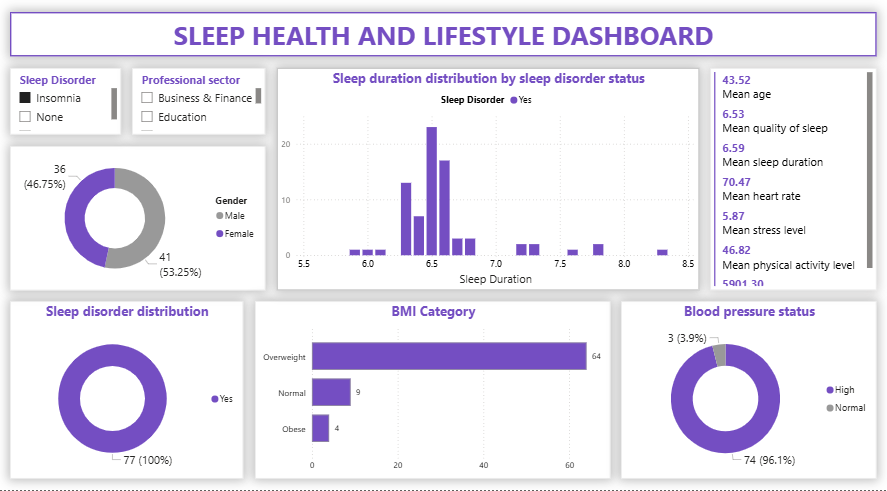

This screenshot's page, from the dashboard's own definition file:
{"tool":"powerbi","page":{"name":"Page 1","canvas":[1280,720],"ordinal":0},"visuals":[{"type":"textbox","box":[16,32,1248,64],"z":0},{"type":"donutChart","title":"Sleep disorder distribution","fields":{"Y":["CountNonNull(sleep_dataset_cleaned.Column1)"],"Category":["sleep_dataset_cleaned.Sleep_Disorder_Flag"]},"box":[16,448,336,256],"z":1000},{"type":"donutChart","title":"Gender distribution","fields":{"Category":["sleep_dataset_cleaned.Gender"],"Y":["CountNonNull(sleep_dataset_cleaned.Column1)"]},"box":[16,224,368,208],"z":2000},{"type":"slicer","fields":{"Values":["sleep_dataset_cleaned.Sleep Disorder"]},"box":[16,112,160,96],"z":3000},{"type":"slicer","fields":{"Values":["sleep_dataset_cleaned.Occupation_Group"]},"box":[192,112,192,96],"z":4000},{"type":"barChart","title":"BMI Category","fields":{"Category":["sleep_dataset_cleaned.BMI Category"],"Y":["CountNonNull(sleep_dataset_cleaned.Column1)"]},"box":[368,448,512,256],"z":5000},{"type":"donutChart","title":"Blood pressure status","fields":{"Y":["CountNonNull(sleep_dataset_cleaned.Column1)"],"Category":["sleep_dataset_cleaned.BP_Category"]},"box":[896,448,368,256],"z":6000},{"type":"multiRowCard","fields":{"Values":["Avg(sleep_dataset_cleaned.Age)","Avg(sleep_dataset_cleaned.Quality of Sleep)","Avg(sleep_dataset_cleaned.Sleep Duration)","Avg(sleep_dataset_cleaned.Heart Rate)","Avg(sleep_dataset_cleaned.Stress Level)","Avg(sleep_dataset_cleaned.Physical Activity Level)","Avg(sleep_dataset_cleaned.Daily Steps)"]},"box":[1024,112,240,320],"z":7000},{"type":"columnChart","title":"Sleep duration distribution by sleep disorder status","fields":{"Category":["sleep_dataset_cleaned.Sleep Duration"],"Y":["CountNonNull(sleep_dataset_cleaned.Person ID)"],"Series":["sleep_dataset_cleaned.Sleep_Disorder_Flag"]},"box":[400,112,608,320],"z":8000}]}

Visuals, with their boxes in screenshot pixels (x1, y1, x2, y2), scaled from the page's 1280x720 canvas onto the 887x491 screenshot:
textbox: bbox(11, 22, 876, 65)
"Sleep disorder distribution" donutChart: bbox(11, 306, 244, 480)
"Gender distribution" donutChart: bbox(11, 153, 266, 295)
slicer - sleep_dataset_cleaned.Sleep Disorder: bbox(11, 76, 122, 142)
slicer - sleep_dataset_cleaned.Occupation_Group: bbox(133, 76, 266, 142)
"BMI Category" barChart: bbox(255, 306, 610, 480)
"Blood pressure status" donutChart: bbox(621, 306, 876, 480)
multiRowCard - Avg(sleep_dataset_cleaned.Age) x Avg(sleep_dataset_cleaned.Quality of Sleep): bbox(710, 76, 876, 295)
"Sleep duration distribution by sleep disorder status" columnChart: bbox(277, 76, 699, 295)
